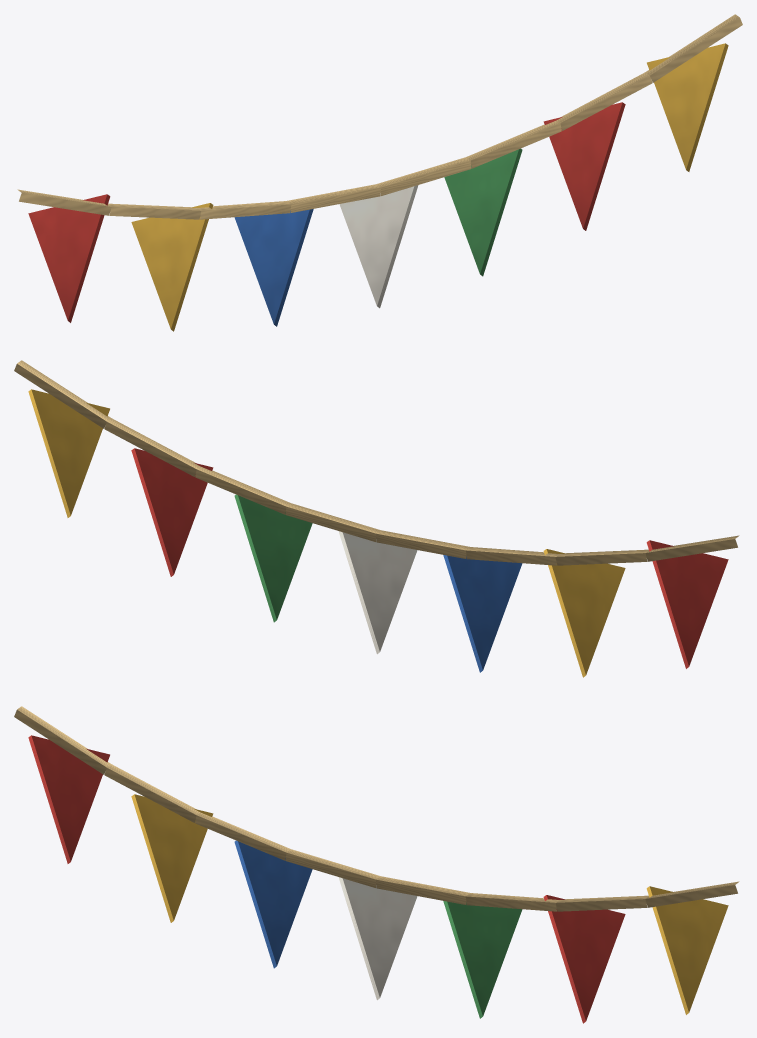
The model's file is prop_bunting_01.glb.
3 views of the same model, one above another, from view 1: azimuth 30°, elevation 25°; view 2: azimuth 150°, elevation 25°; view 3: azimuth 330°, elevation 25° (orthographic).
Visible parts, largest first — view 1: prop_bunting_01; view 2: prop_bunting_01; view 3: prop_bunting_01.
Boxes of the visible parts, <box> form: prop_bunting_01: <box>17,14,742,331</box>; prop_bunting_01: <box>14,360,739,677</box>; prop_bunting_01: <box>14,706,739,1023</box>.
Bounding box in the file's own units: 2.2 × 0.5917 × 0.025.
Materials: 1 (1 with a texture image).
